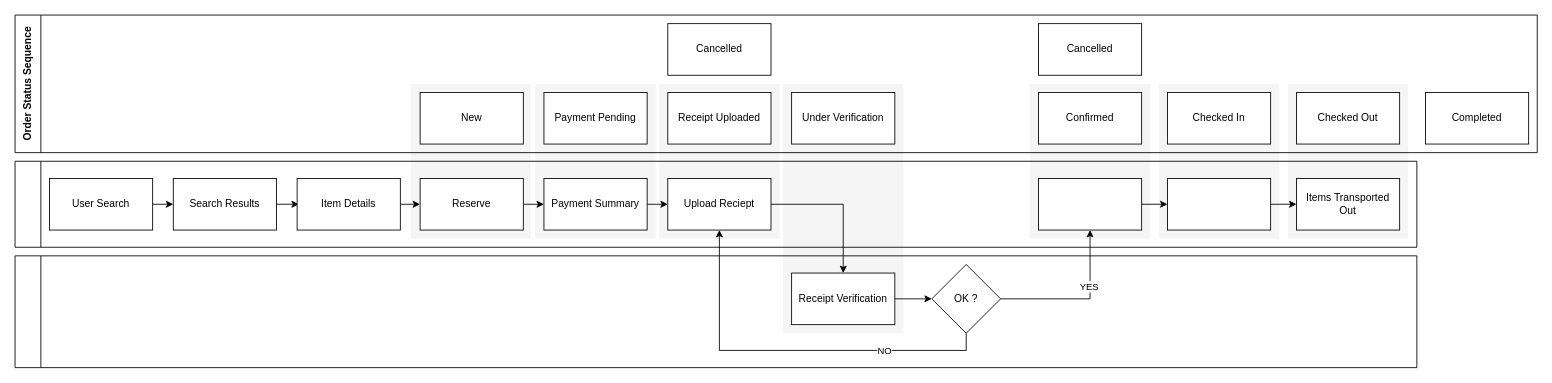
The diagram is 1552 pixels wide and 383 high, and some of its shapes have lost their labels. The centre of each missing label's shape, as x and y in pixels:
"Booking Confirmed" belongs at (1090,204).
"Items Transported In" belongs at (1219,204).
"System Admins" belongs at (715,311).
"User Journey" belongs at (715,203).
